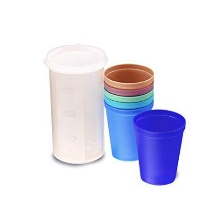glass: (33, 31, 108, 168), (101, 61, 156, 166), (126, 101, 189, 189)
